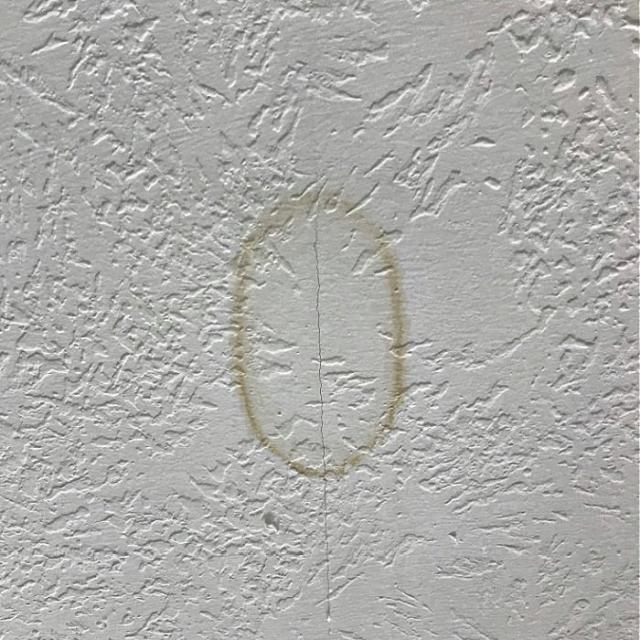leak: (234, 184, 403, 482), (313, 154, 336, 640)
